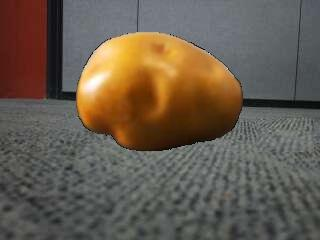Potato: (76, 33, 242, 153)
